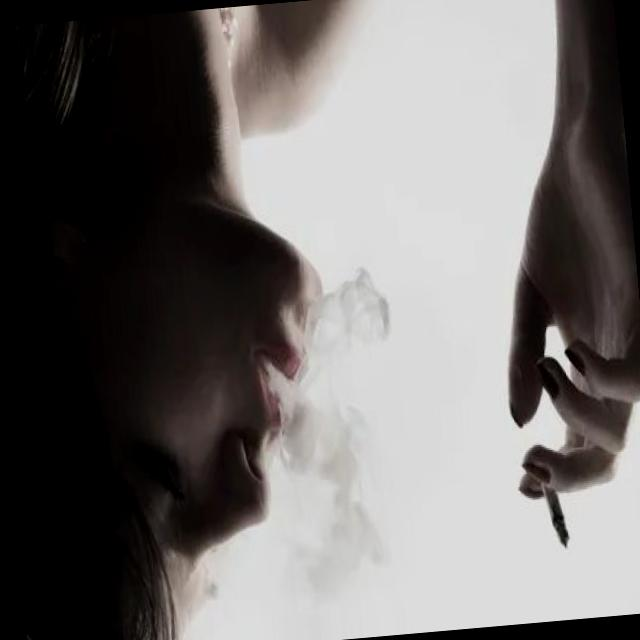smoke: (535, 468, 573, 558)
